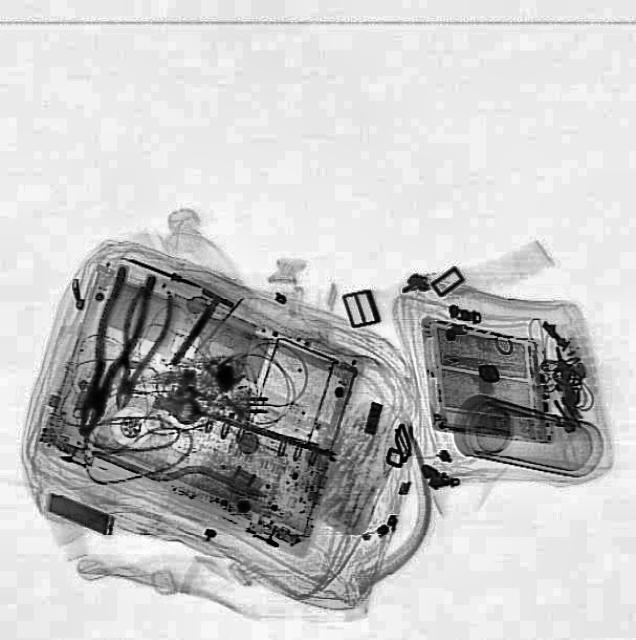Pliers: (60, 262, 162, 440), (99, 284, 179, 414)
